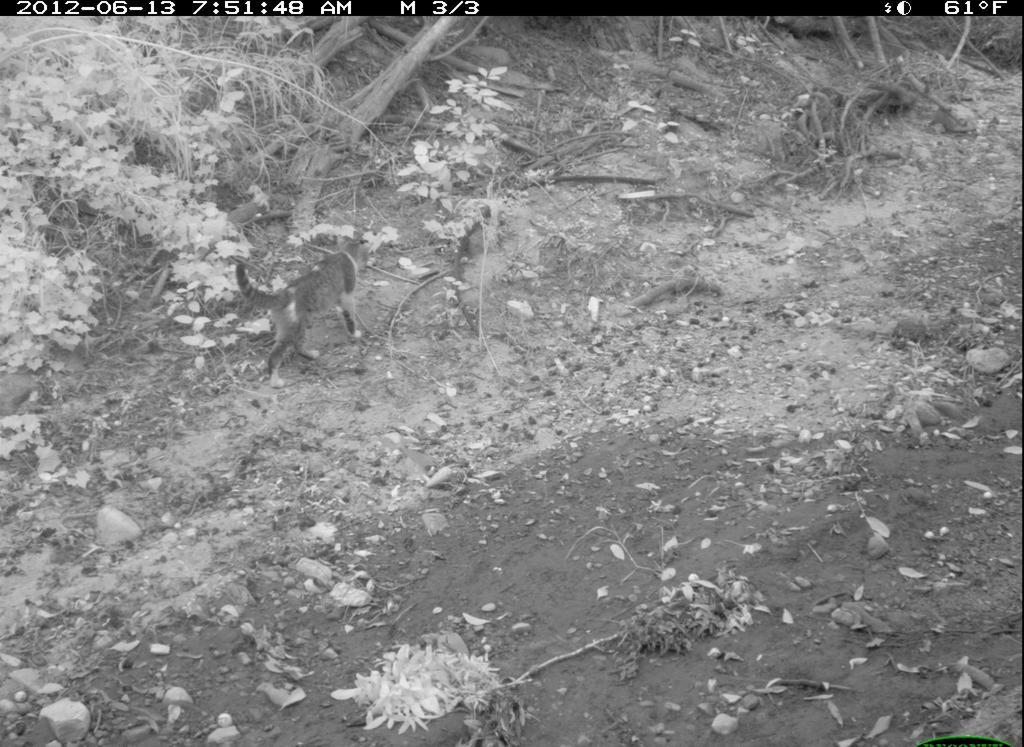cat: (228, 236, 393, 392)
